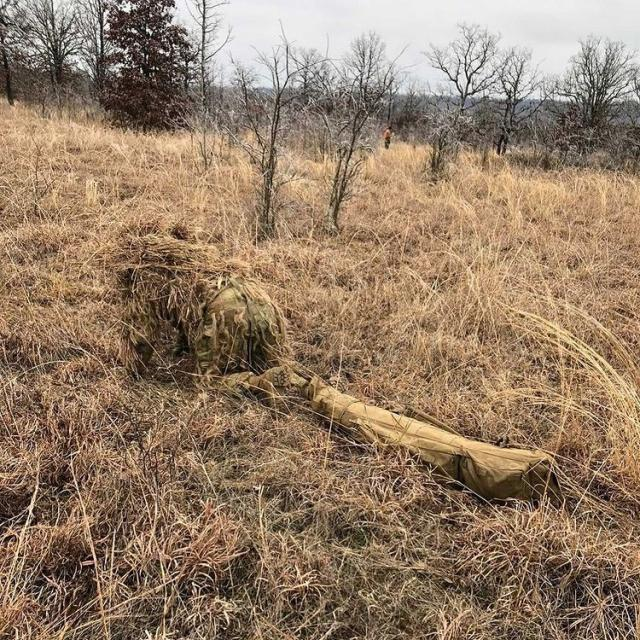Camouflage: (103, 201, 313, 421)
